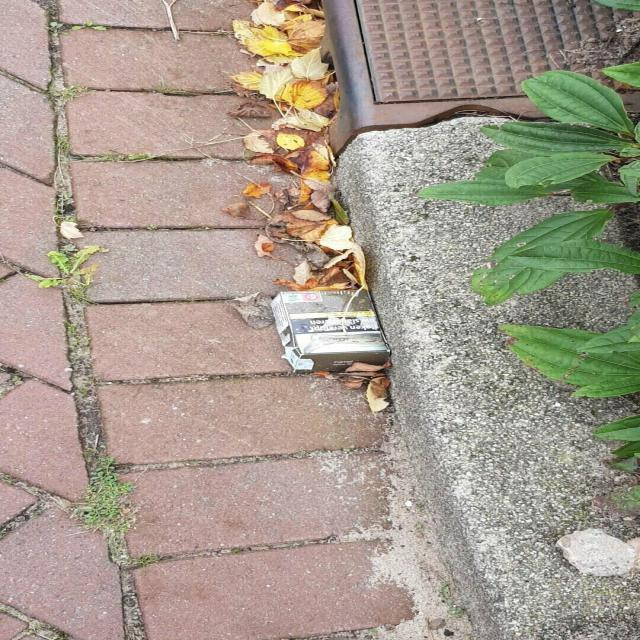Paper: (268, 288, 392, 374)
